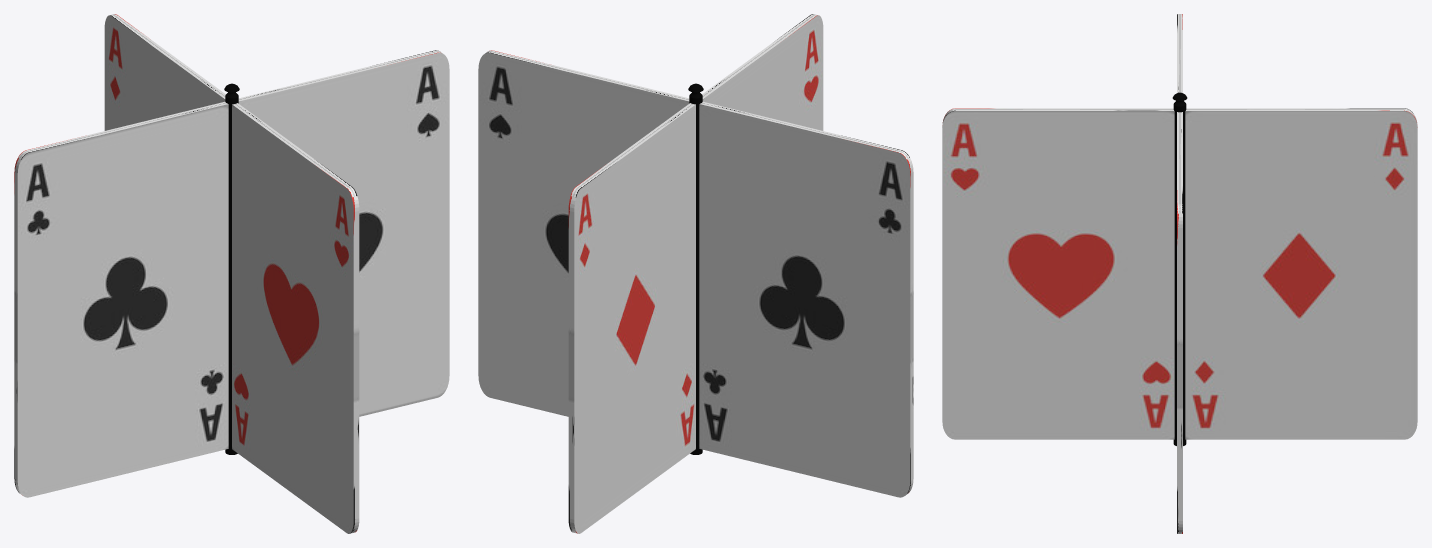
Rendered from Card Obstacle.fbx.
3 renders of one model, left to right at view 1: azimuth 30°, elevation 25°; view 2: azimuth 150°, elevation 25°; view 3: azimuth 270°, elevation 25°, orthographic. The views are drawn at different scales.
Parts seen in each view (by area): view 1: Cube.002, Cube, Cube.003, Cube.001, Cylinder; view 2: Cube.002, Cube.001, Cube.003, Cube, Cylinder; view 3: Cube, Cube.001, Cube.003, Cylinder.
Part boxes in pixels (x1,y1,x2,y2): Cube.002: (14, 101, 228, 497); Cube: (232, 103, 359, 533); Cube.003: (238, 50, 449, 416); Cube.001: (104, 14, 225, 130); Cylinder: (224, 83, 239, 454); Cube.002: (699, 101, 913, 497); Cube.001: (568, 103, 695, 533); Cube.003: (478, 50, 689, 416); Cube: (702, 14, 823, 130); Cylinder: (688, 83, 703, 454); Cube: (942, 108, 1174, 439); Cube.001: (1185, 108, 1417, 439); Cube.003: (1177, 112, 1182, 533); Cylinder: (1172, 92, 1187, 445).
Bounding box in the file's own units: 760 × 618 × 760.
